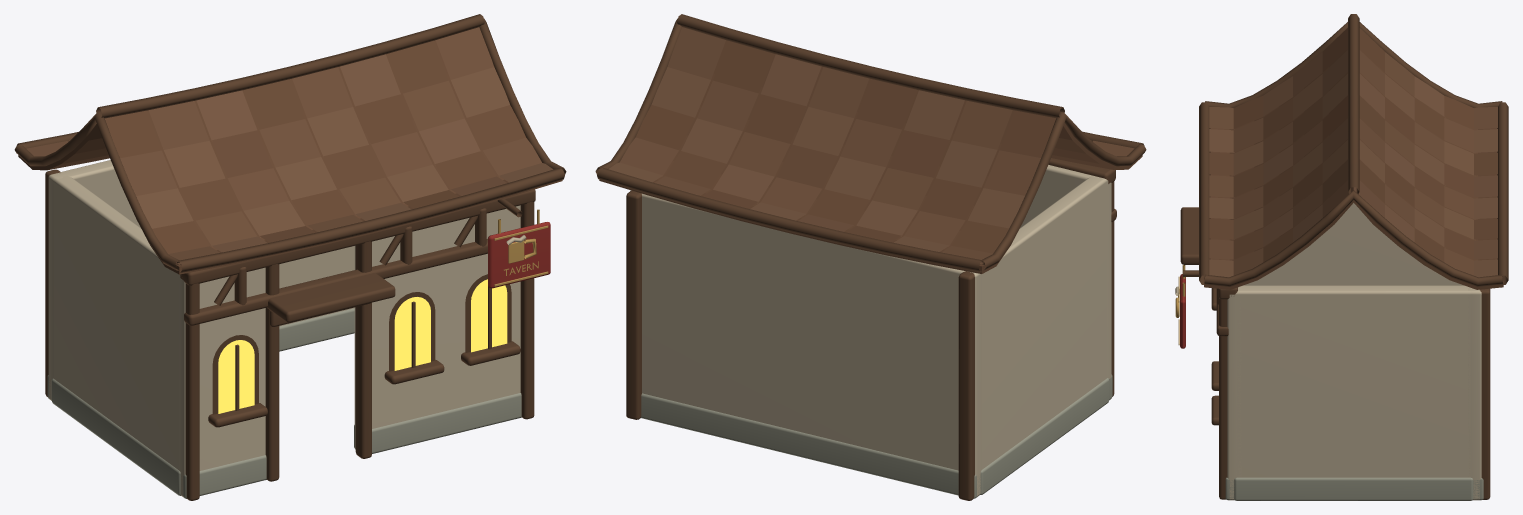
Rendered from tavern.glb.
3 views of the same model, side by side, from view 1: azimuth 30°, elevation 25°; view 2: azimuth 150°, elevation 25°; view 3: azimuth 270°, elevation 25° (orthographic). The views are drawn at different scales.
Visible parts, largest first — view 1: tavern-exterior; view 2: tavern-exterior; view 3: tavern-exterior.
Part boxes in pixels (left/top/right/bottom): tavern-exterior: left=14, top=14, right=566, bottom=500; tavern-exterior: left=595, top=14, right=1146, bottom=500; tavern-exterior: left=1175, top=14, right=1508, bottom=500.
Bounding box in the file's own units: 4.73 × 3.99 × 3.75.
